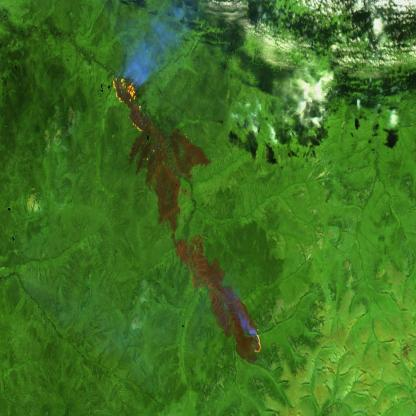fire: (114, 72, 146, 136), (244, 326, 266, 358)
